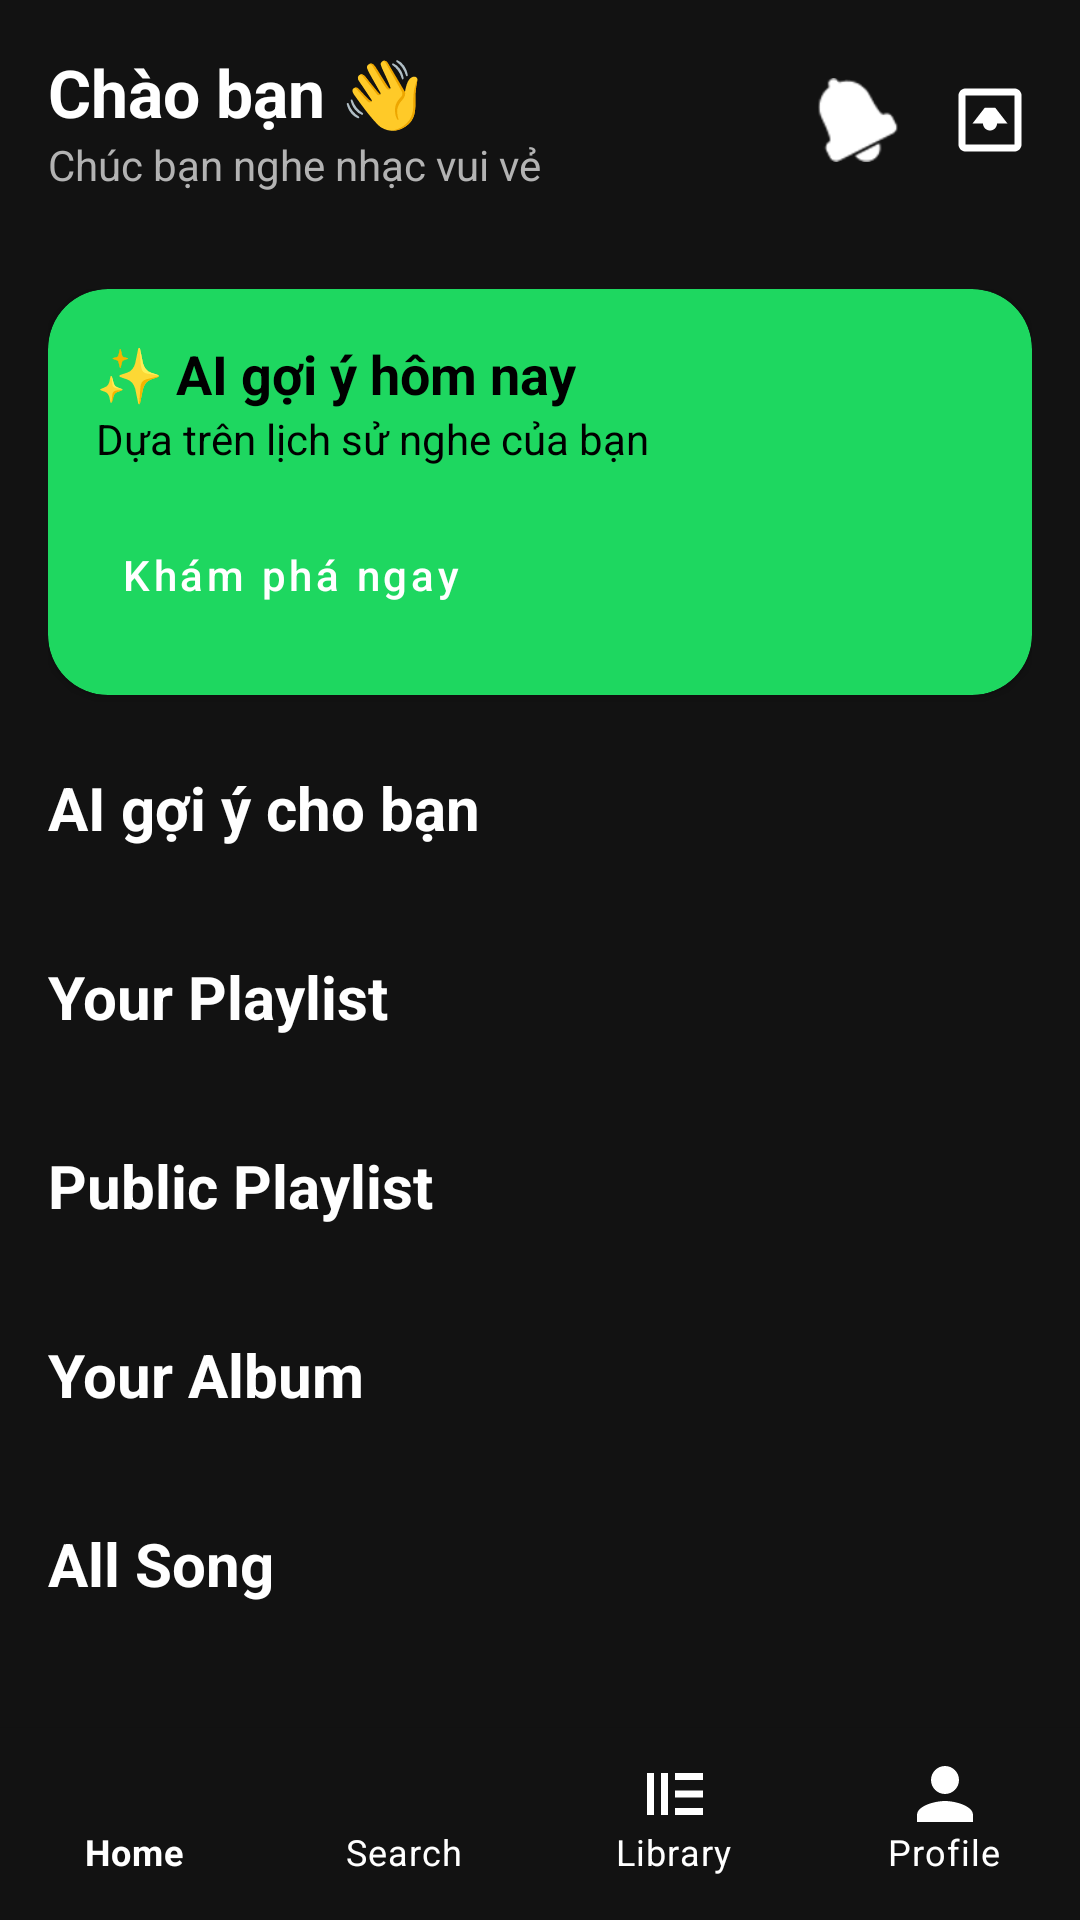

Icon bounding boxes for this 1080*1920 phone screenshot, format (x1, y1, x2, y2):
popup reminder: (818, 78, 898, 162)
